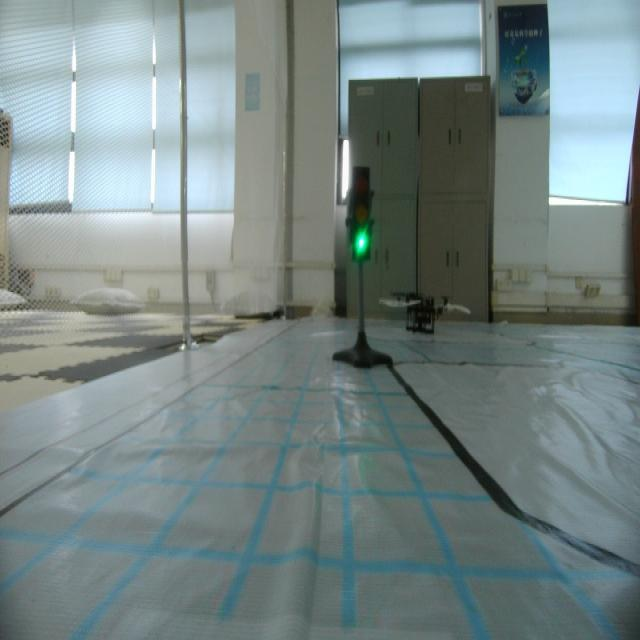green: (346, 167, 379, 265)
